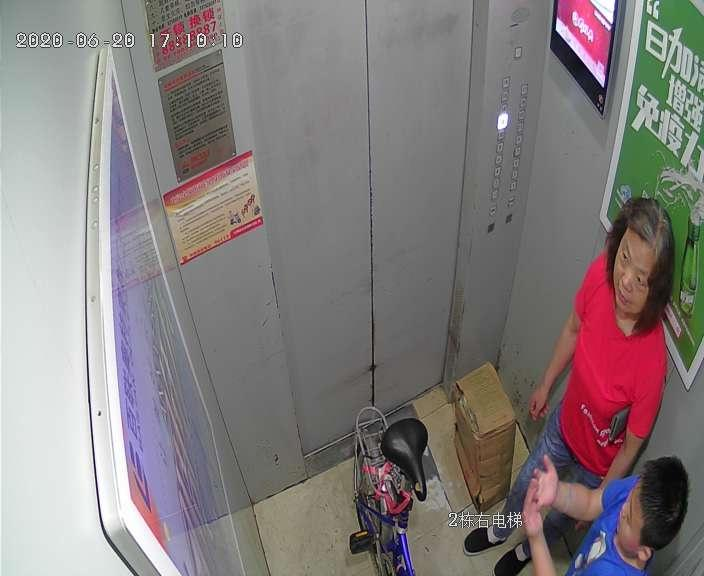person: (464, 199, 674, 555), (522, 457, 688, 576)
